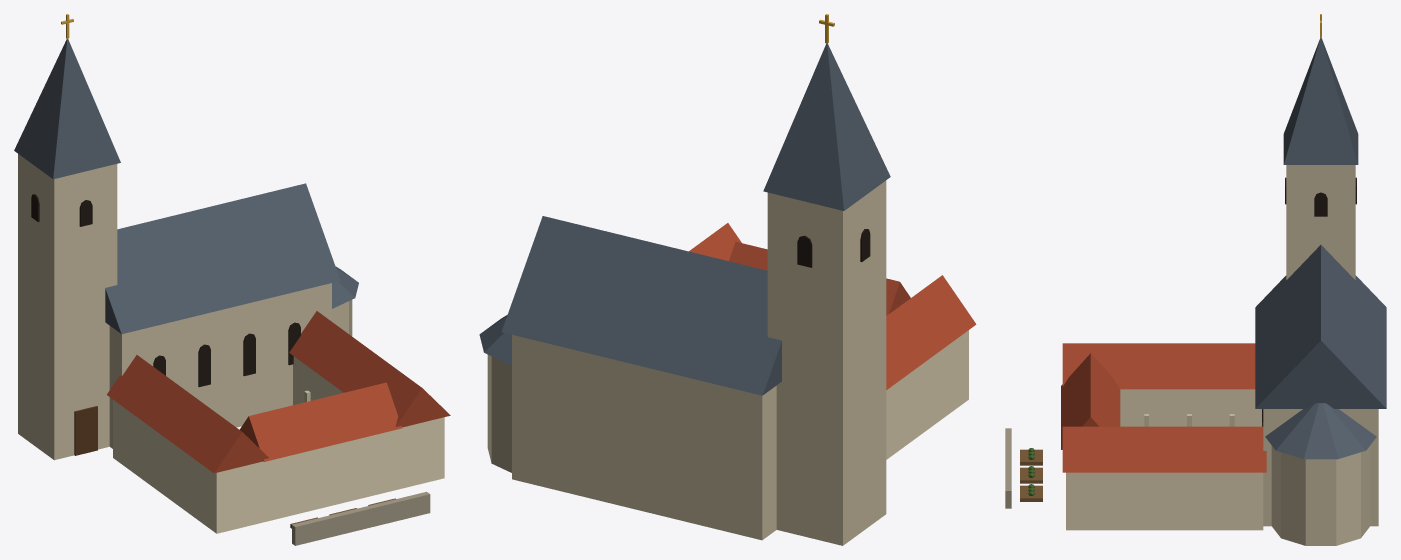
Rendered from building_monastery.glb.
The picture shows the model from 3 angles, left to right: view 1: azimuth 30°, elevation 25°; view 2: azimuth 150°, elevation 25°; view 3: azimuth 270°, elevation 25°; orthographic projection. The views are drawn at different scales.
Parts seen in each view (by area): view 1: building_monastery; view 2: building_monastery; view 3: building_monastery.
Boxes of the visible parts, x1,y1,x2,y2 form: building_monastery: [14, 14, 450, 545]; building_monastery: [479, 14, 976, 545]; building_monastery: [1005, 14, 1386, 545].
Bounding box in the file's own units: 21.1 × 27.05 × 23.2.
